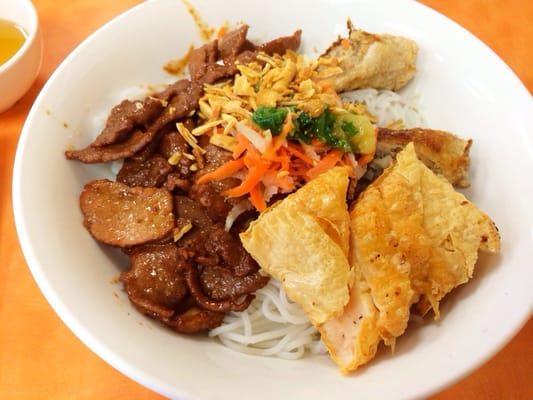sushi: (8, 0, 530, 398), (0, 1, 43, 116)
